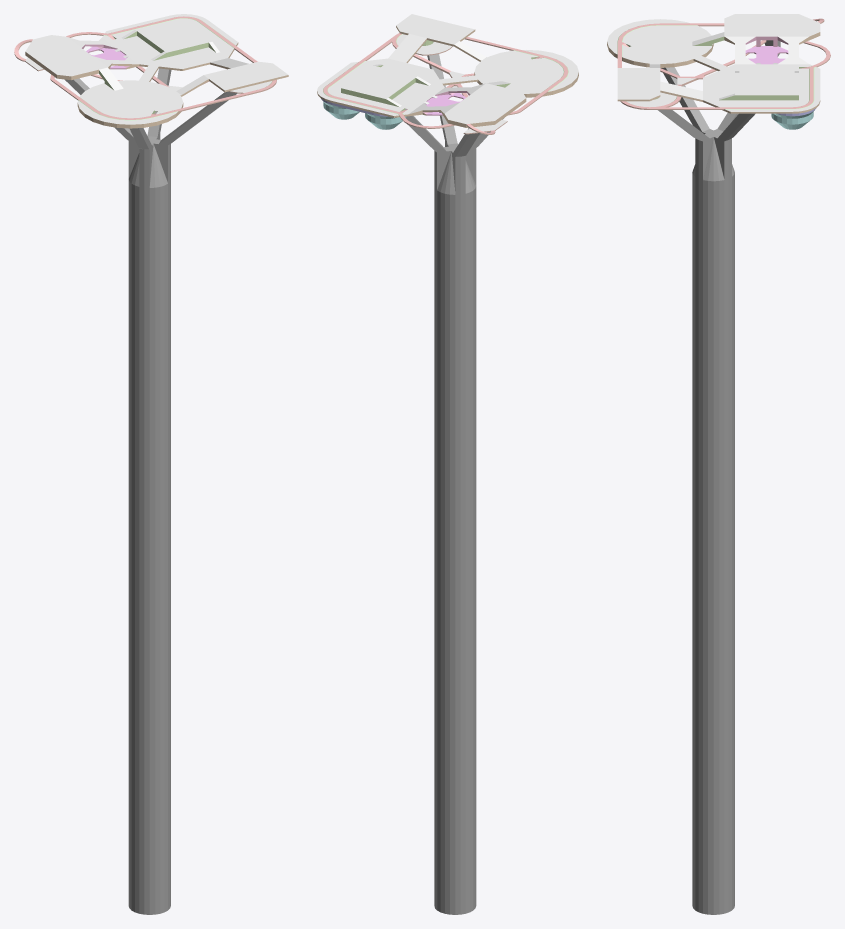
The model's file is PlatformModel.fbx.
The picture shows the model from 3 angles, left to right: view 1: azimuth 30°, elevation 25°; view 2: azimuth 150°, elevation 25°; view 3: azimuth 270°, elevation 25°; orthographic projection.
Visible parts, largest first — view 1: SketchUp.005; view 2: SketchUp.005; view 3: SketchUp.005.
Part boxes in pixels (left/top/right/bottom): SketchUp.005: left=14, top=14, right=288, bottom=914; SketchUp.005: left=317, top=14, right=578, bottom=914; SketchUp.005: left=607, top=14, right=830, bottom=914.
Bounding box in the file's own units: 51500 × 220500 × 52500.
